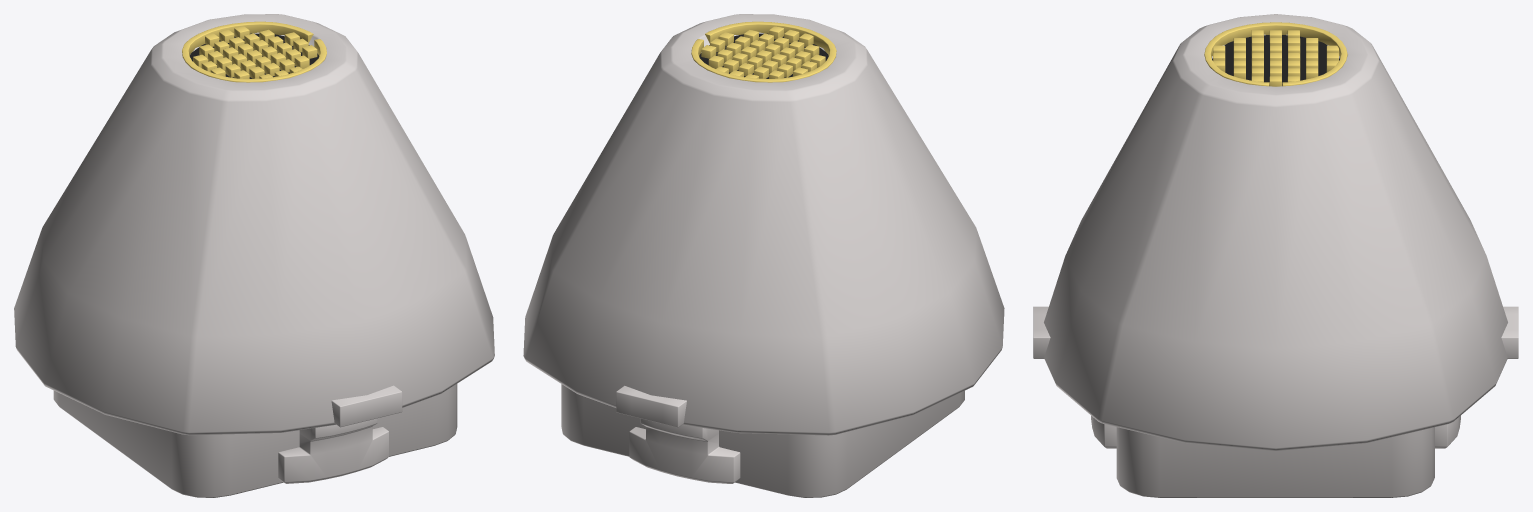
File: therfect_trf_e_v2_240208.glb
The picture shows the model from 3 angles, left to right: view 1: azimuth 30°, elevation 25°; view 2: azimuth 150°, elevation 25°; view 3: azimuth 270°, elevation 25°; orthographic projection. The views are drawn at different scales.
Visible parts, largest first — view 1: trf_e; view 2: trf_e; view 3: trf_e.
Part boxes in pixels (x1,y1,x2,y2): trf_e: (14,14,494,497); trf_e: (523,14,1004,497); trf_e: (1033,14,1518,497).
Size of the model in its own units: 0.1047 by 0.0864 by 0.1017.
